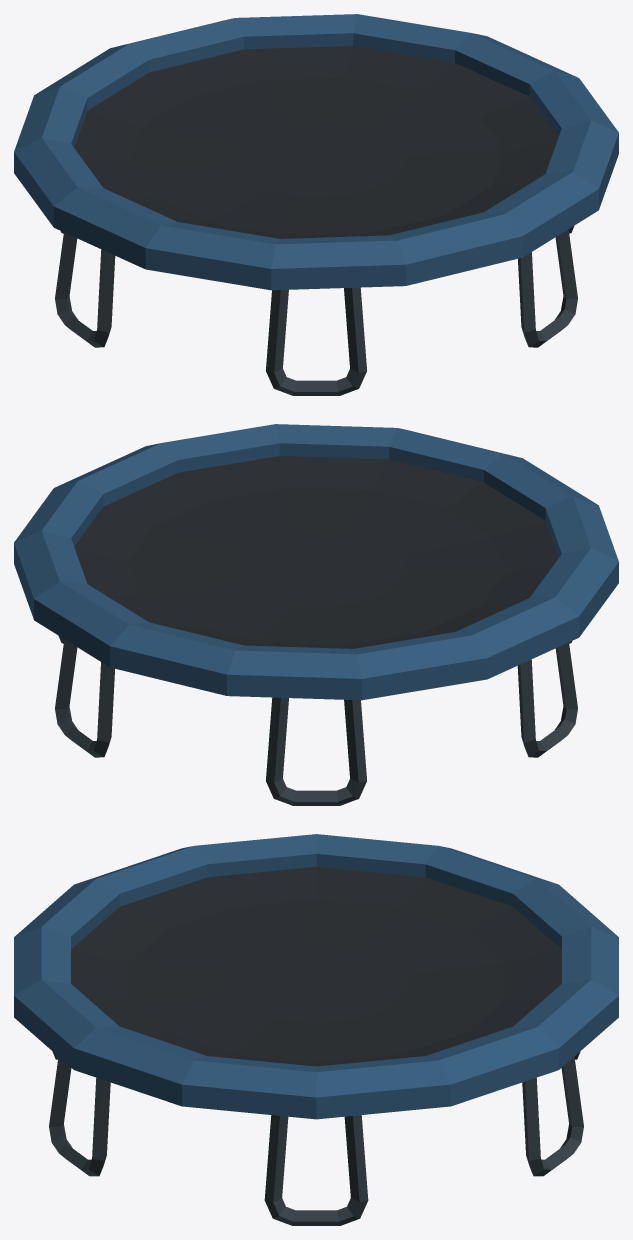
The model's file is backyard-trampoline-2779ec.glb.
3 views of the same model, one above another, from view 1: azimuth 30°, elevation 25°; view 2: azimuth 150°, elevation 25°; view 3: azimuth 270°, elevation 25° (orthographic). The views are drawn at different scales.
Parts seen in each view (by area): view 1: trampoline; view 2: trampoline; view 3: trampoline.
Boxes of the visible parts, <box> form: trampoline: <box>14,14,618,395</box>; trampoline: <box>14,424,618,805</box>; trampoline: <box>14,834,618,1225</box>.
Bounding box in the file's own units: 3.6 × 1 × 3.51.
